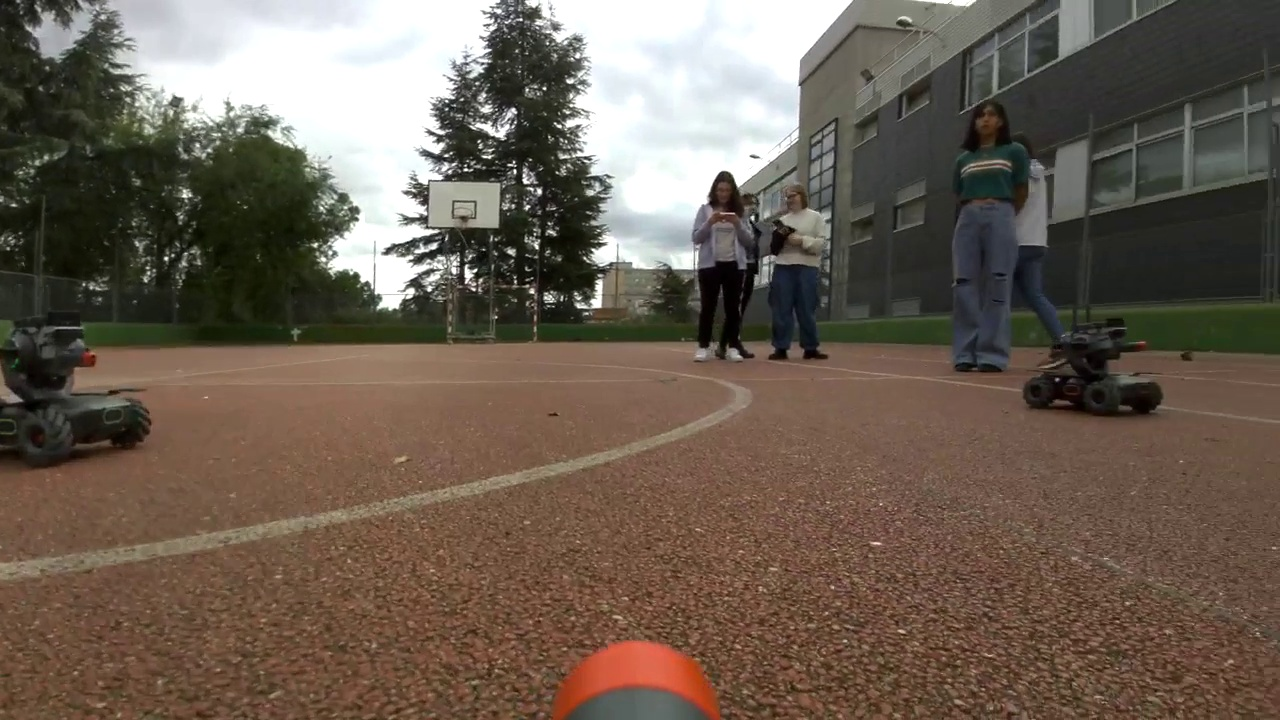robot: (3, 312, 149, 465), (1024, 317, 1162, 417)
